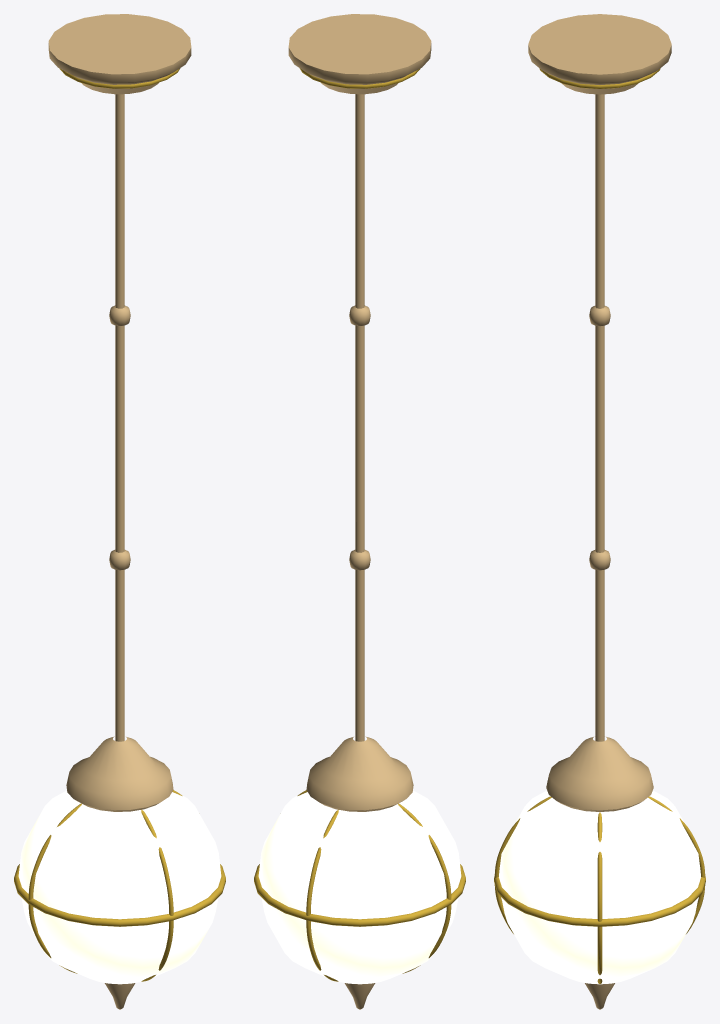
File: pendant.glb
The picture shows the model from 3 angles, left to right: view 1: azimuth 30°, elevation 25°; view 2: azimuth 150°, elevation 25°; view 3: azimuth 270°, elevation 25°; orthographic projection.
Visible parts, largest first — view 1: pendant_opal, pendant_brass, pendant_gold; view 2: pendant_opal, pendant_brass, pendant_gold; view 3: pendant_opal, pendant_brass, pendant_gold.
Boxes of the visible parts, left/top/right/bottom form: pendant_opal: left=18, top=790, right=221, bottom=984; pendant_brass: left=48, top=14, right=191, bottom=1009; pendant_gold: left=14, top=68, right=225, bottom=981; pendant_opal: left=258, top=790, right=461, bottom=984; pendant_brass: left=288, top=14, right=431, bottom=1009; pendant_gold: left=254, top=68, right=465, bottom=981; pendant_opal: left=499, top=790, right=700, bottom=984; pendant_brass: left=528, top=14, right=671, bottom=1009; pendant_gold: left=494, top=68, right=705, bottom=983.
Bounding box in the file's own units: 0.354 × 1.78 × 0.354.
